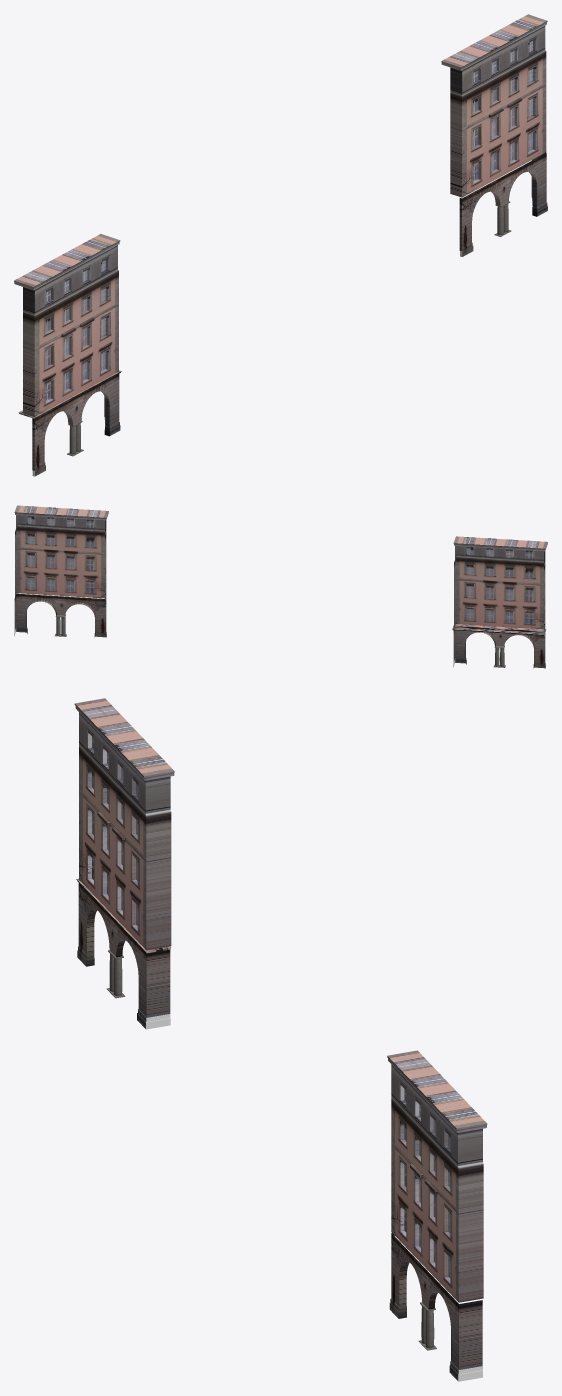
Rendered from rathaus_extention.FBX.
The picture shows the model from 3 angles, top to bottom: view 1: azimuth 30°, elevation 25°; view 2: azimuth 150°, elevation 25°; view 3: azimuth 270°, elevation 25°; orthographic projection. The views are drawn at different scales.
Visible parts, largest first — view 1: NEW005, OLD002, NEW004; view 2: NEW005, OLD002, NEW004, Box837; view 3: NEW005, OLD002, NEW004.
Part boxes in pixels (x1,y1,x2,y2): NEW005: (14,234,120,476); OLD002: (450,50,547,256); NEW004: (441,14,547,94); NEW005: (453,536,547,668); OLD002: (14,525,106,637); NEW004: (14,505,108,533); Box837: (452,624,546,635); NEW005: (74,698,174,1029); OLD002: (389,1096,483,1381); NEW004: (387,1050,487,1166).
Size of the model in its own units: 8741 by 2388 by 3534.
3 materials, 2 textured.
